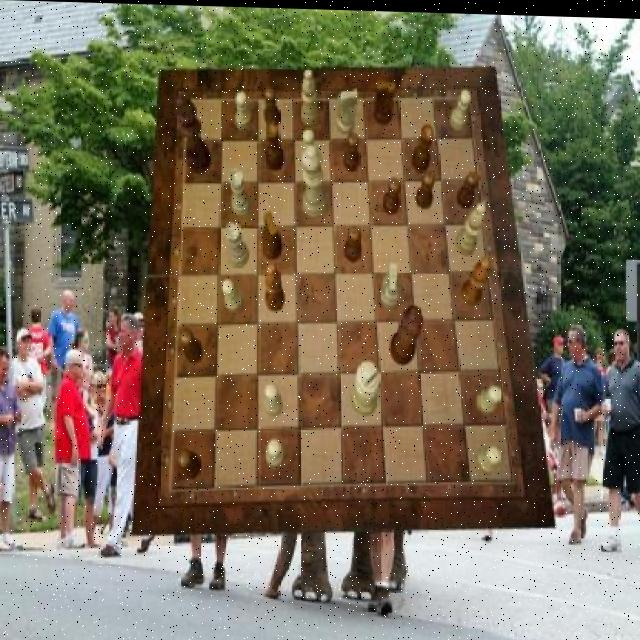bishop: (460, 252, 490, 304), (266, 262, 286, 311)
black-bishop: (175, 93, 212, 173)
black-king: (374, 79, 397, 124), (263, 211, 283, 259)
black-knight: (457, 168, 480, 206), (180, 327, 203, 362), (416, 168, 436, 207), (177, 447, 201, 479), (264, 86, 282, 127), (383, 175, 401, 213), (344, 131, 360, 170), (345, 224, 362, 260)
black-pawn: (390, 303, 422, 364)
black-queen: (412, 122, 436, 170), (264, 120, 284, 170)
black-rook: (457, 200, 488, 254), (300, 66, 319, 124)
white-bishop: (351, 358, 380, 414)
white-king: (335, 86, 358, 133), (380, 261, 401, 308)
white-knight: (449, 87, 472, 129), (477, 383, 503, 411), (223, 276, 243, 311), (264, 382, 284, 416), (303, 127, 320, 167), (477, 443, 501, 471), (236, 90, 252, 129), (266, 437, 286, 465)
white-pawn: (303, 144, 329, 219)
white-queen: (224, 220, 248, 267), (230, 169, 252, 217)
